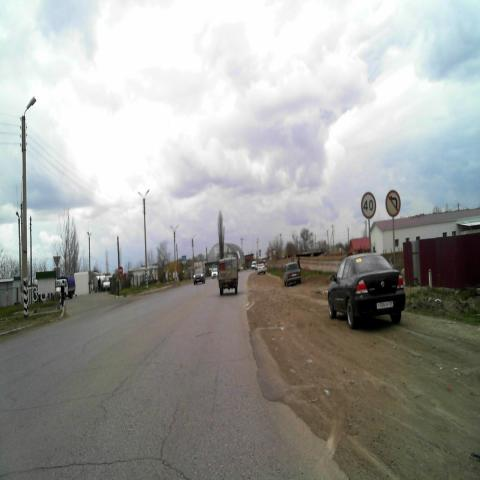3_18_2: (385, 188, 401, 218)
